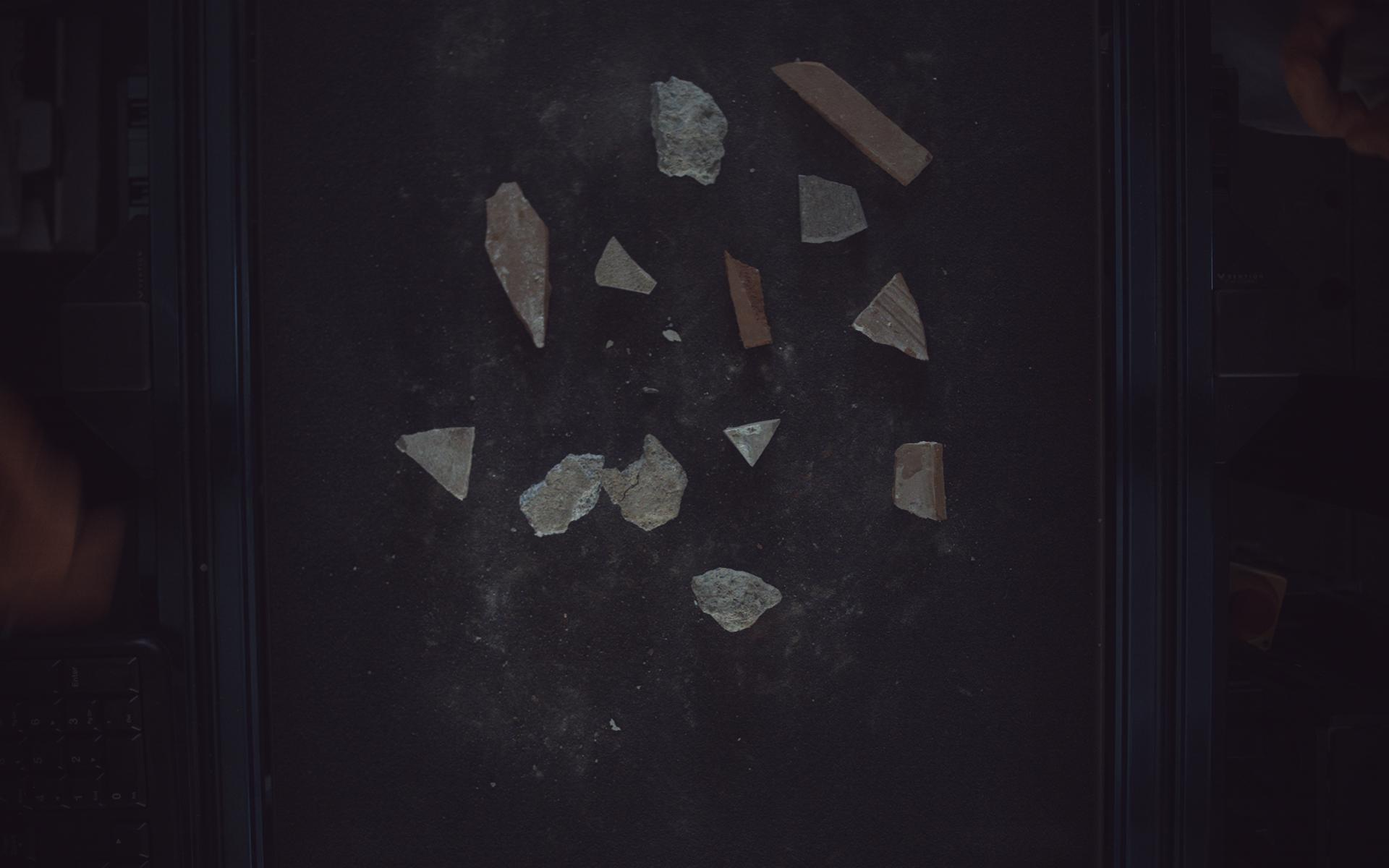brick: (774, 60, 934, 184), (485, 181, 551, 348), (855, 273, 930, 360), (726, 250, 773, 348), (894, 442, 948, 521)
concrete: (602, 434, 689, 532), (651, 76, 729, 184), (520, 456, 604, 537), (692, 569, 783, 633)
tile: (396, 427, 475, 500), (800, 174, 869, 242), (596, 236, 657, 294), (725, 419, 781, 467)
